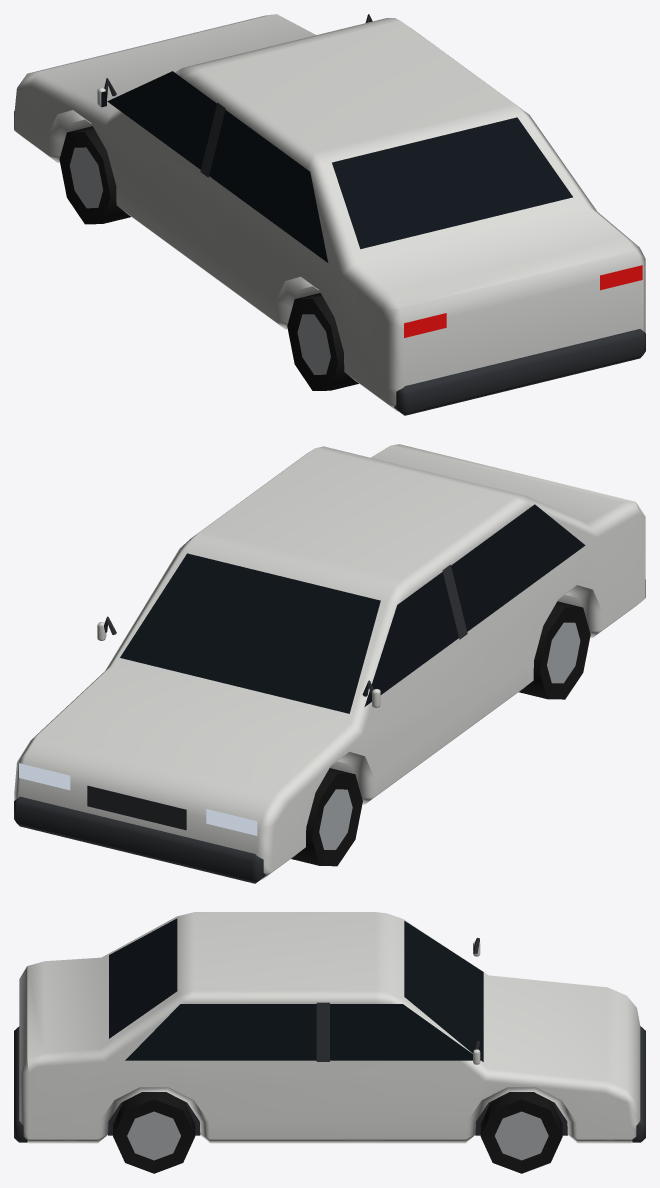
File: car_sedan.glb
3 views of the same model, one above another, from view 1: azimuth 30°, elevation 25°; view 2: azimuth 150°, elevation 25°; view 3: azimuth 270°, elevation 25° (orthographic). The views are drawn at different scales.
Parts seen in each view (by area): view 1: Body, Wheels; view 2: Body, Wheels; view 3: Body, Wheels.
Boxes of the visible parts, x1,y1,x2,y2 form: Body: [14, 14, 645, 415]; Wheels: [59, 126, 358, 390]; Body: [14, 444, 645, 883]; Wheels: [291, 601, 590, 866]; Body: [14, 912, 645, 1143]; Wheels: [113, 1092, 562, 1173].
Size of what is drawn, in the model's own units: 1.99 by 1.44 by 4.78.
Materials: 6 (1 with a texture image).
